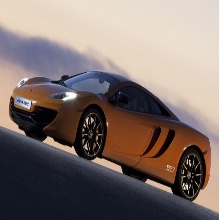no damage: (9, 70, 211, 201)
